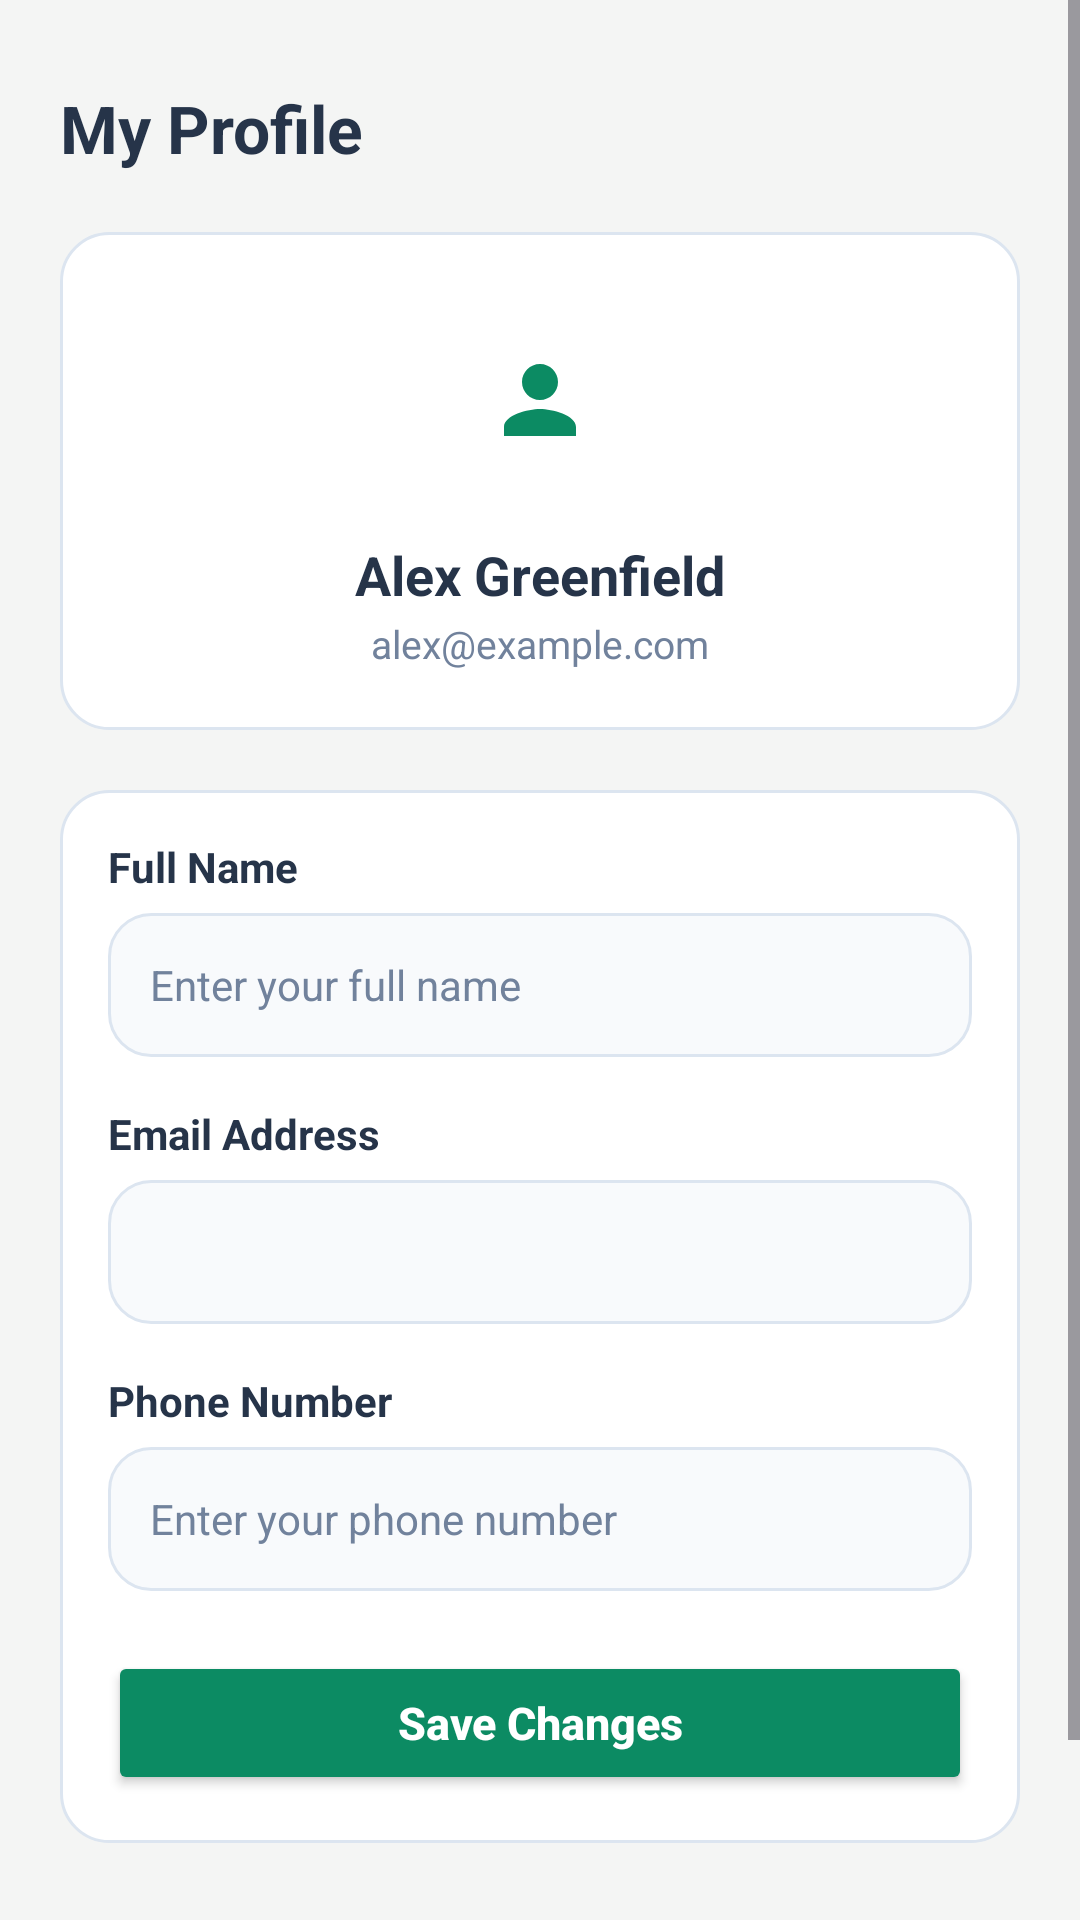

Screen size 1080px×1920px. Icon name, then its center in pixels as (x=x, y=y):
Profile Avatar: (x=540, y=400)
